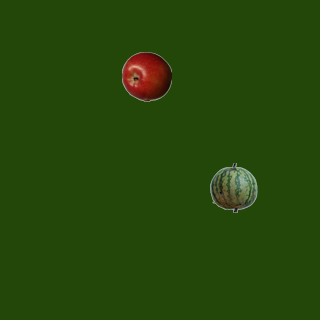Apple Braeburn: (121, 51, 171, 101)
Watermelon: (208, 162, 258, 212)
